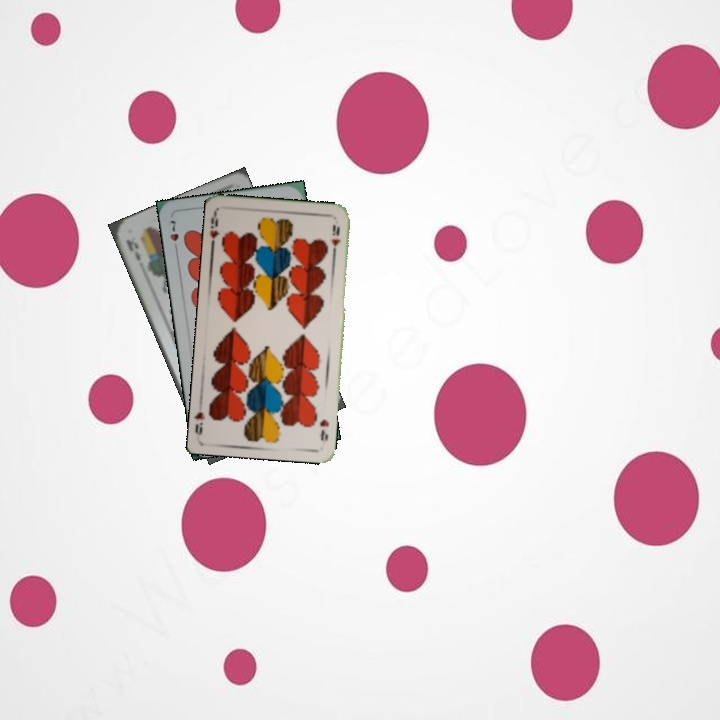EK: (122, 235, 143, 263)
H7: (166, 216, 181, 255)
H9: (206, 209, 221, 250), (316, 415, 331, 443)
